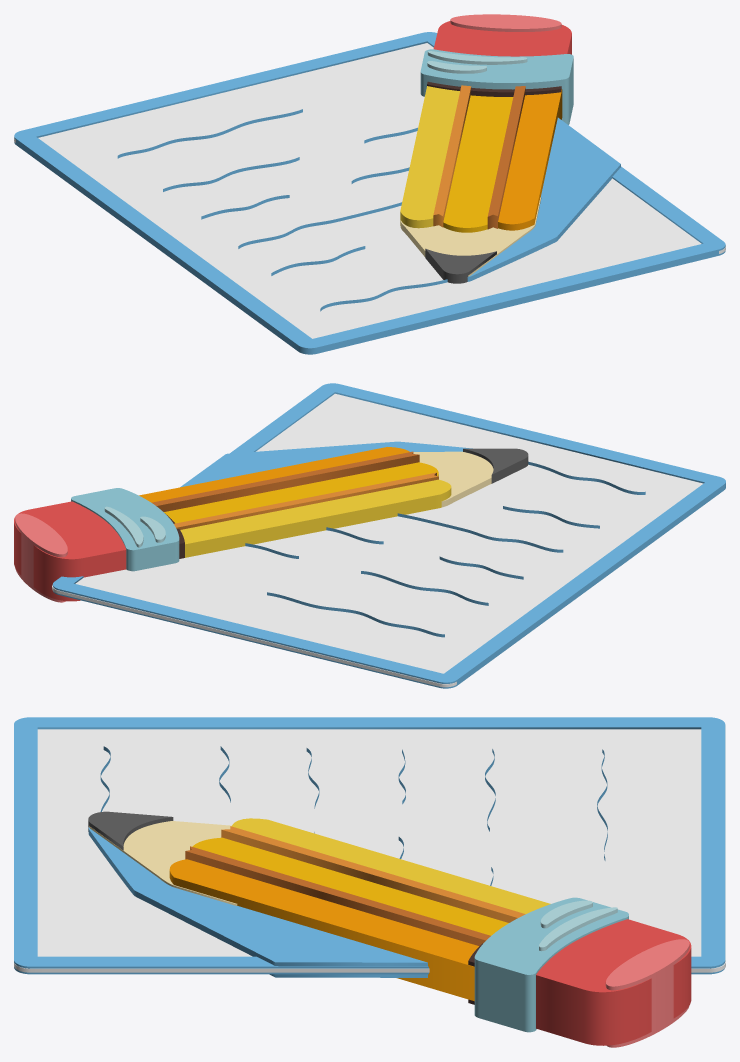
Rendered from emoji_u1f4dd.glb.
3 renders of one model, top to bottom at view 1: azimuth 30°, elevation 25°; view 2: azimuth 150°, elevation 25°; view 3: azimuth 270°, elevation 25°, orthographic. The views are drawn at different scales.
Visible parts, largest first — view 1: emoji_u1f4dd; view 2: emoji_u1f4dd; view 3: emoji_u1f4dd.
Boxes of the visible parts, x1=… form: emoji_u1f4dd: x1=14, y1=14, x2=725, y2=354; emoji_u1f4dd: x1=14, y1=383, x2=725, y2=688; emoji_u1f4dd: x1=14, y1=717, x2=725, y2=1047.
Size of the model in its own units: 0.0334 by 0.0034 by 0.0337.
